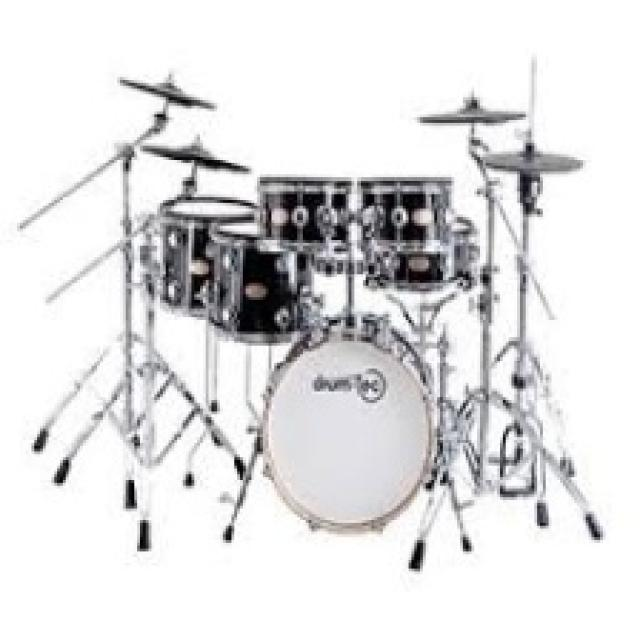drums: (75, 70, 586, 513)
